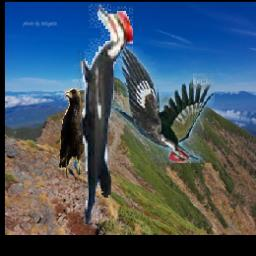Crow: (59, 88, 85, 176)
Woodpecker: (78, 4, 134, 226), (112, 46, 216, 163)
